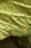Tomato mold leaf: (0, 0, 31, 46)
